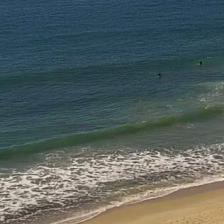surfer: (157, 73, 162, 76), (200, 61, 202, 65)
